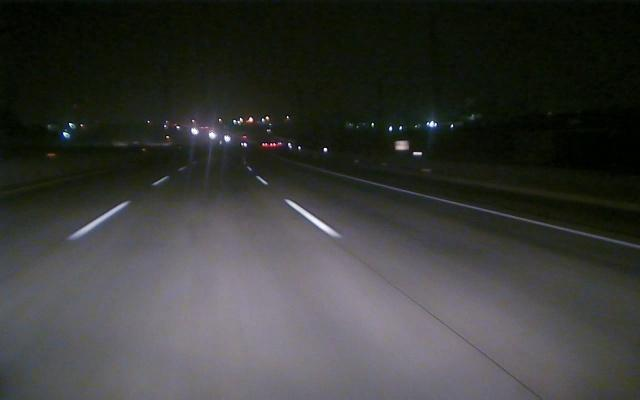lane: (331, 173, 637, 249), (64, 175, 169, 241), (256, 176, 342, 238)
